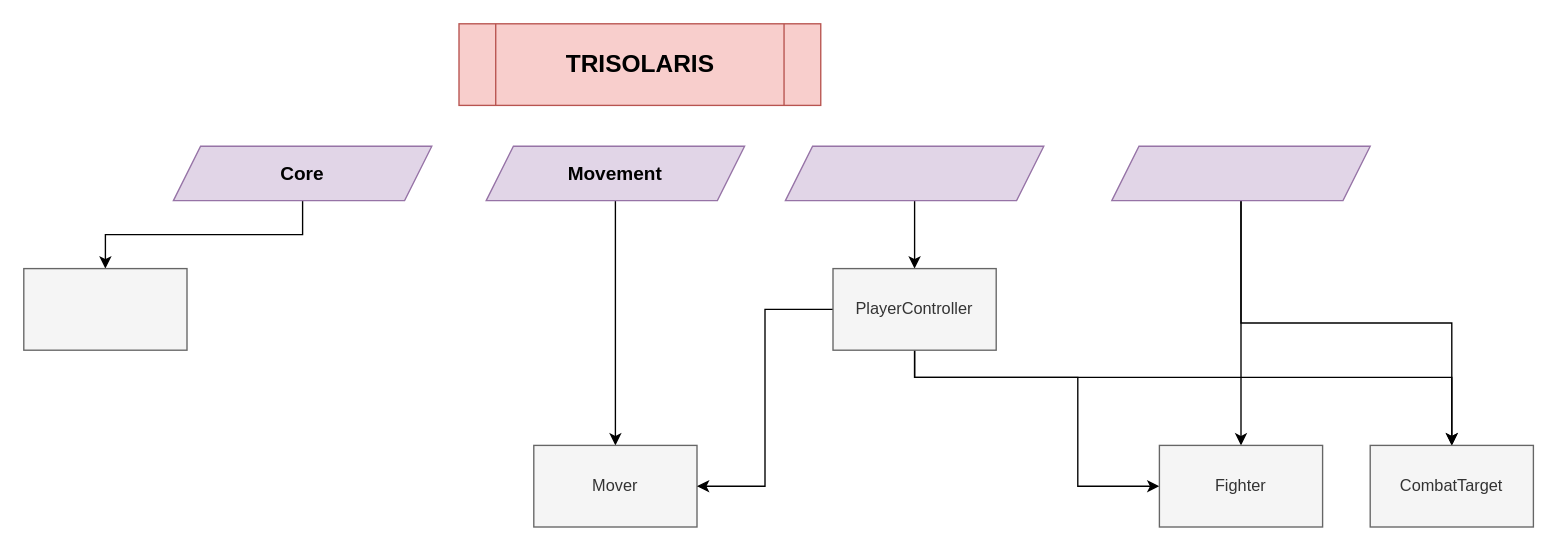
Image size: 1557x551. Some labels were removed from this diagram. Each missing label, with the box of its shape:
Combat: (1110, 145, 1370, 201)
Controller: (784, 145, 1044, 201)
FollowCamera: (22, 267, 187, 350)
